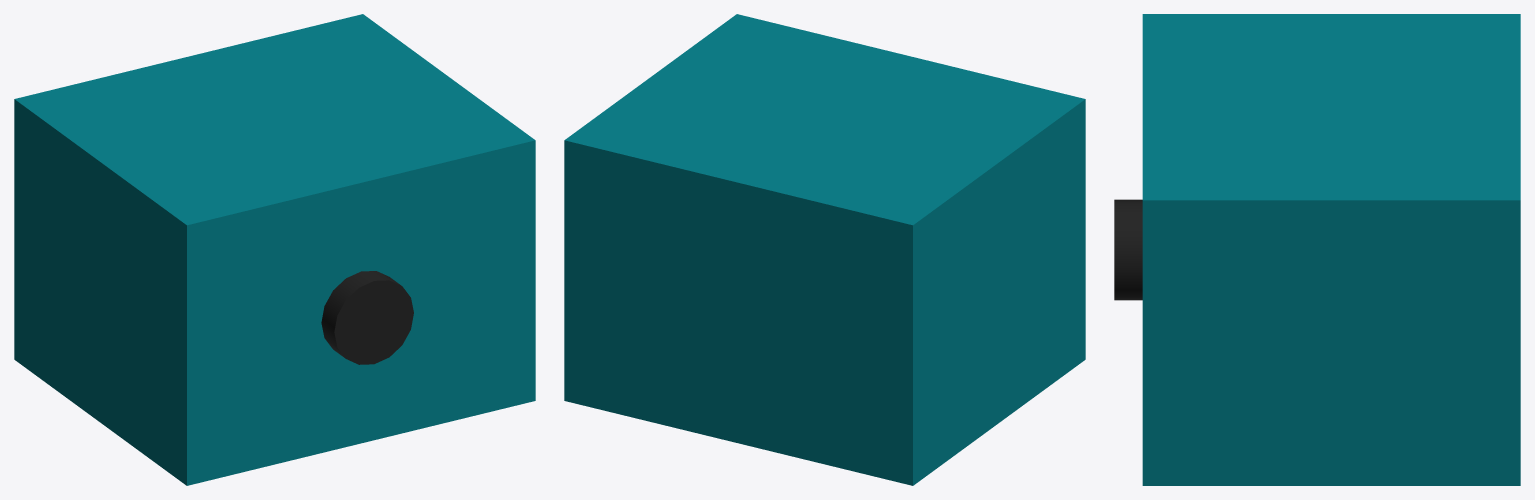
The picture shows the model from 3 angles, left to right: view 1: azimuth 30°, elevation 25°; view 2: azimuth 150°, elevation 25°; view 3: azimuth 270°, elevation 25°; orthographic projection. The views are drawn at different scales.
Size of the model in its own units: 0.07 by 0.05 by 0.0645.
